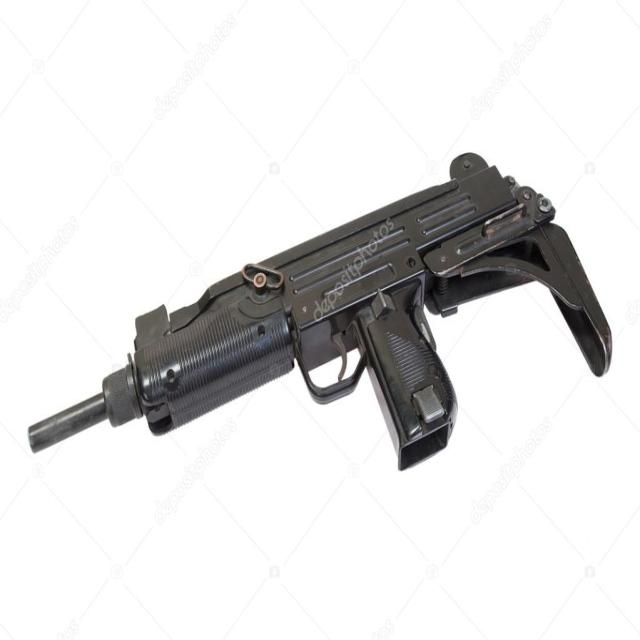SMG: (28, 153, 612, 472)
